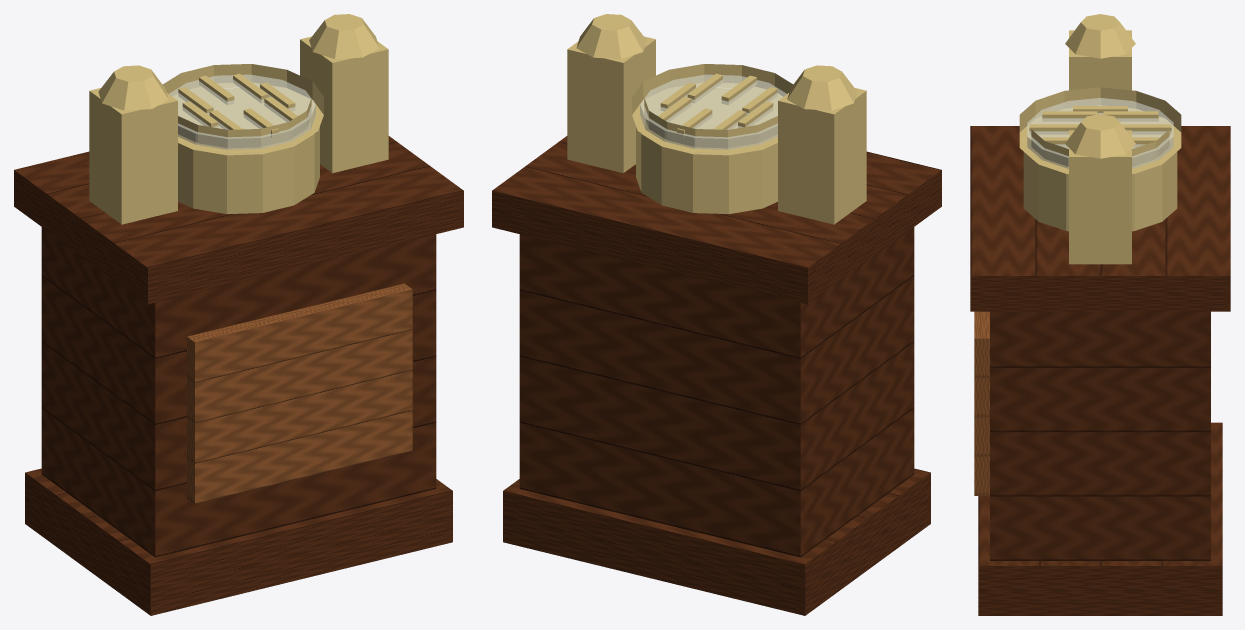
File: pirate-port-and-tall-ships-binnacle-compass-box-b03f046e__30157.glb
The picture shows the model from 3 angles, left to right: view 1: azimuth 30°, elevation 25°; view 2: azimuth 150°, elevation 25°; view 3: azimuth 270°, elevation 25°; orthographic projection. The views are drawn at different scales.
Parts seen in each view (by area): view 1: binnacle-compass-box; view 2: binnacle-compass-box; view 3: binnacle-compass-box.
Part boxes in pixels (left/top/right/bottom): binnacle-compass-box: left=14, top=14, right=463, bottom=615; binnacle-compass-box: left=492, top=14, right=941, bottom=615; binnacle-compass-box: left=970, top=14, right=1230, bottom=615.
Size of the model in its own units: 0.9 by 1.32 by 0.66.
Materials: 4 (2 with a texture image).
